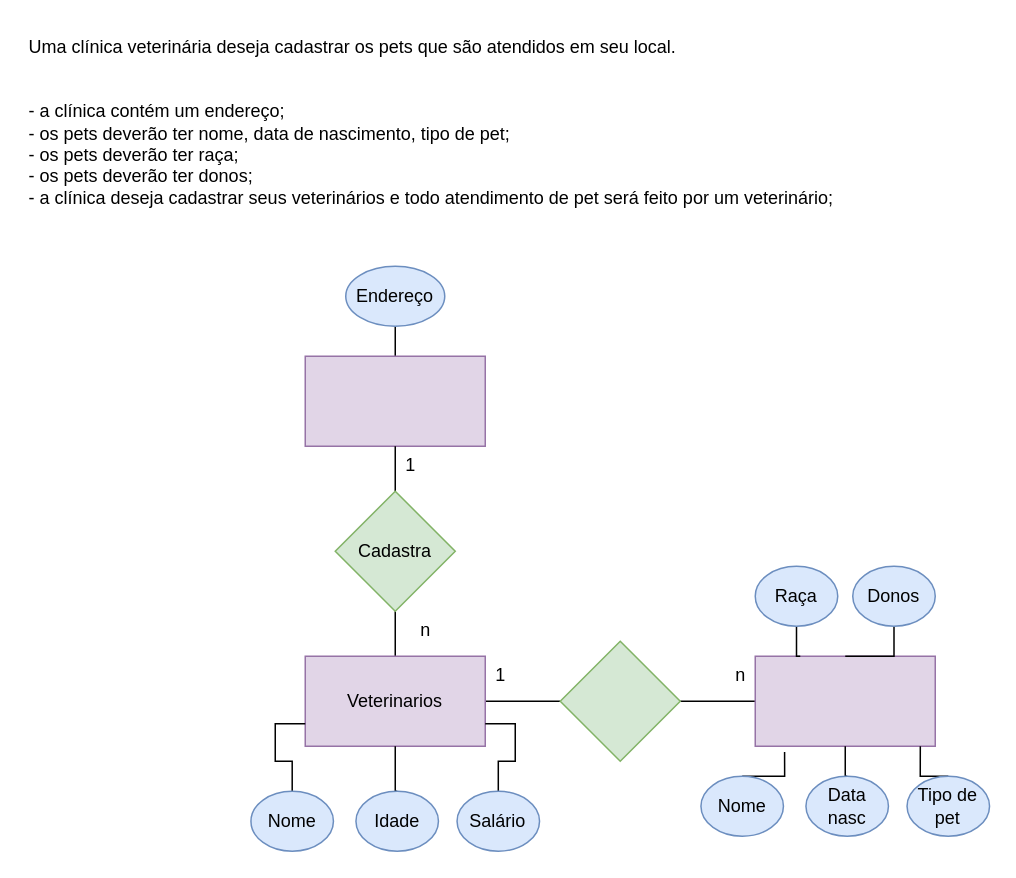
This 1016x878 diagram has some shape labels left out. Each missing label, with the centre of its shape:
Atende: (619,700)
Clinica: (394,400)
Pet: (844,700)
